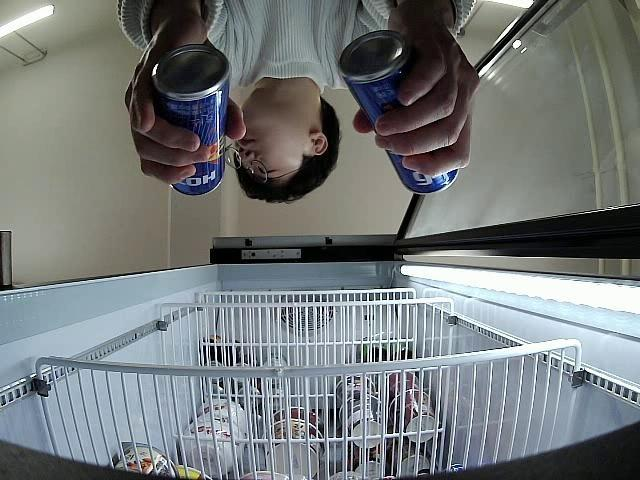16_hot6: (336, 30, 461, 197), (151, 43, 232, 198)
